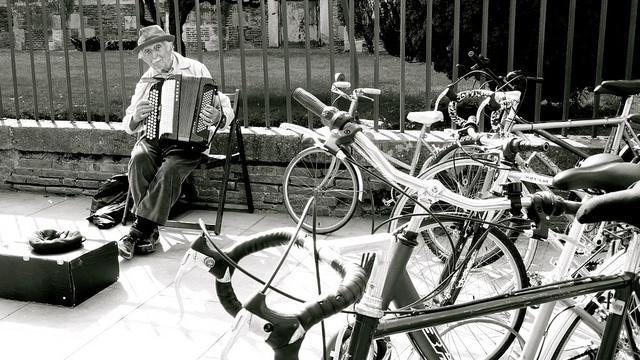bicycle: (278, 84, 640, 354), (405, 134, 640, 360), (285, 50, 544, 233), (175, 218, 370, 356), (485, 80, 640, 155)
